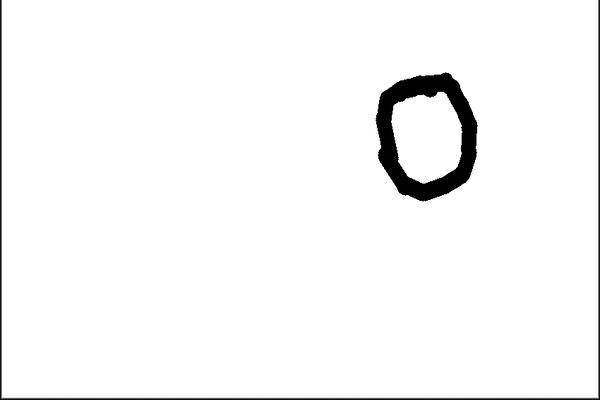O: (364, 65, 520, 207)
